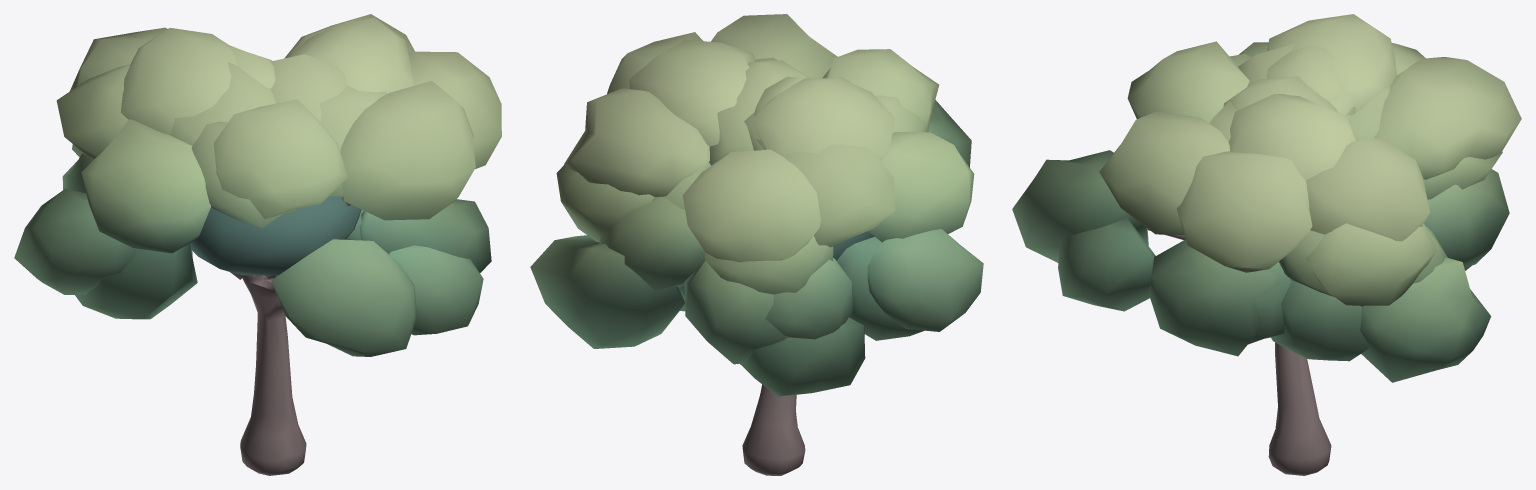
Rendered from a_oak.glb.
3 views of the same model, side by side, from view 1: azimuth 30°, elevation 25°; view 2: azimuth 150°, elevation 25°; view 3: azimuth 270°, elevation 25° (orthographic). The views are drawn at different scales.
Parts seen in each view (by area): view 1: near; view 2: near; view 3: near.
Part boxes in pixels (x1,y1,x2,y2): near: (14, 14, 501, 475); near: (530, 14, 983, 475); near: (1012, 14, 1521, 475).
Bounding box in the file's own units: 11.85 × 11.83 × 13.07.
